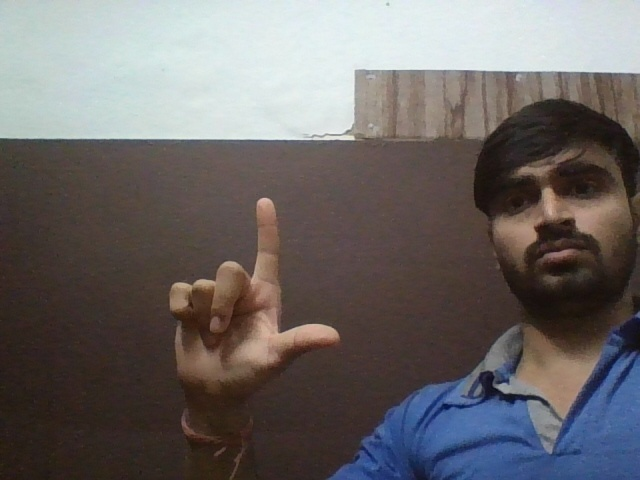L: (158, 198, 355, 393)
